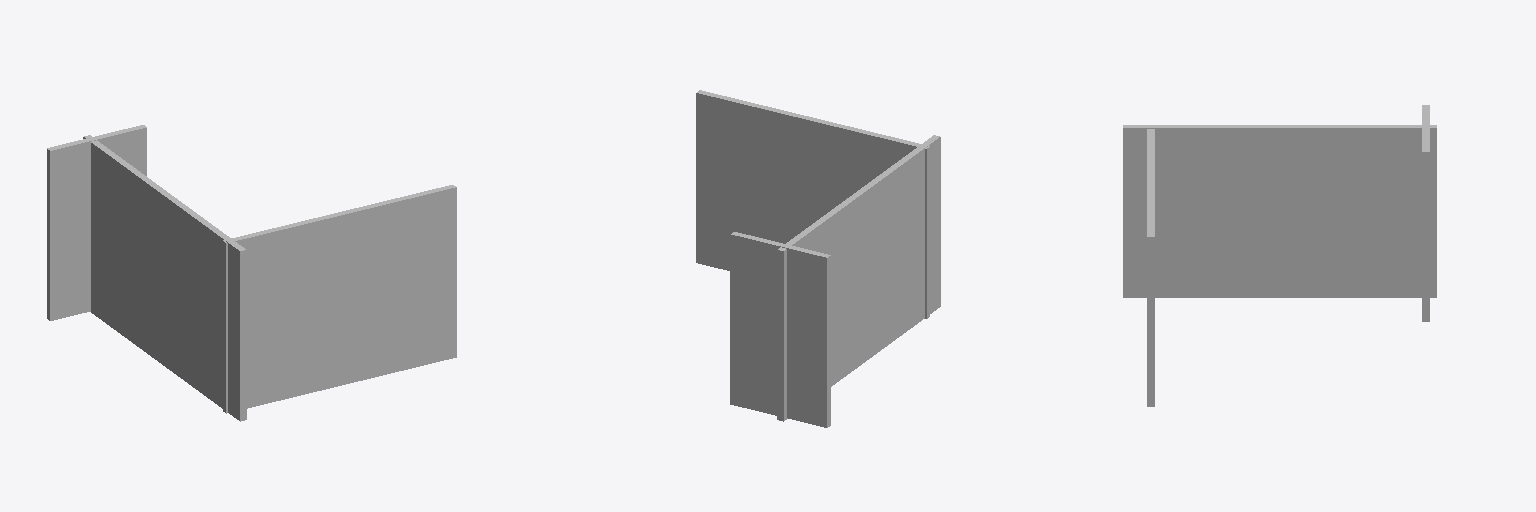
Rendered from test-wall.obj.
3 renders of one model, left to right at view 1: azimuth 30°, elevation 25°; view 2: azimuth 150°, elevation 25°; view 3: azimuth 270°, elevation 25°, orthographic.
Visible parts, largest first — view 1: Cube.003_Cube.004, Cube.002_Cube.003, Cube_Cube.001; view 2: Cube.003_Cube.004, Cube.002_Cube.003, Cube_Cube.001; view 3: Cube.002_Cube.003, Cube.003_Cube.004, Cube_Cube.001.
Boxes of the visible parts, box(x1,y1,x2,y2) form: Cube.003_Cube.004: box(223, 185, 456, 413); Cube.002_Cube.003: box(83, 135, 246, 421); Cube_Cube.001: box(47, 125, 146, 320); Cube.003_Cube.004: box(696, 90, 929, 318); Cube.002_Cube.003: box(777, 135, 940, 421); Cube_Cube.001: box(730, 232, 830, 427); Cube.002_Cube.003: box(1123, 125, 1436, 297); Cube.003_Cube.004: box(1147, 129, 1154, 406); Cube_Cube.001: box(1422, 105, 1429, 321).
Bounding box in the file's own units: 5.54 × 3.38 × 5.6.